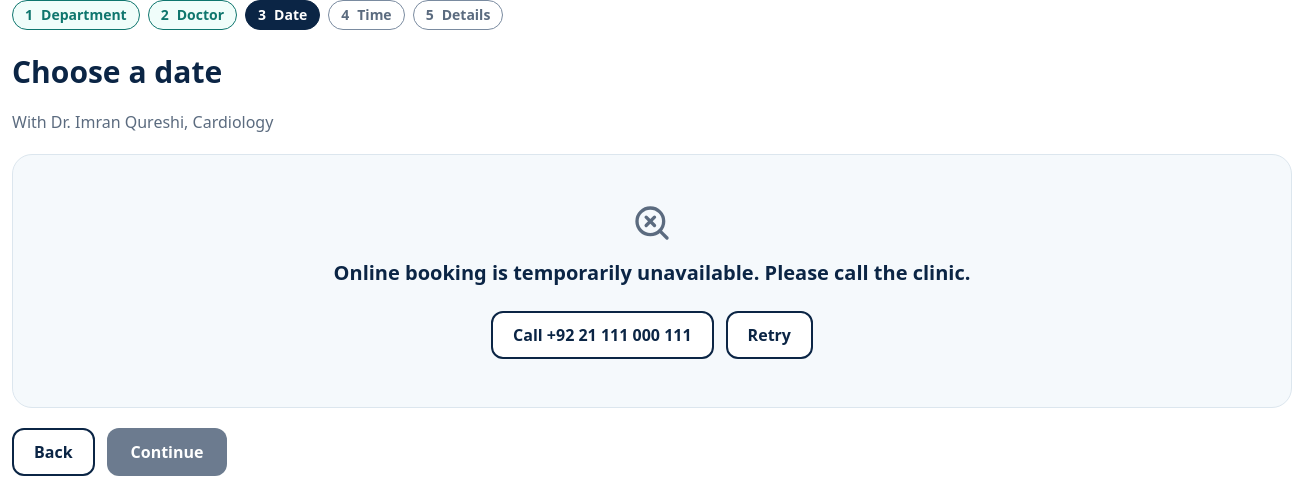
Scenario: BookingFlow: edge cases › says online booking is unavailable when the slots cannot be loaded, and Retry loads them again
Expected: the text "Online booking is temporarily unavailable. Please call the clinic." is shown, [334,259,970,287]
Expected: the link "Call +92 21 111 000 111" is shown, [491,311,714,359]
Click the button "Retry".
click(769, 335)  # box [726,311,813,359]
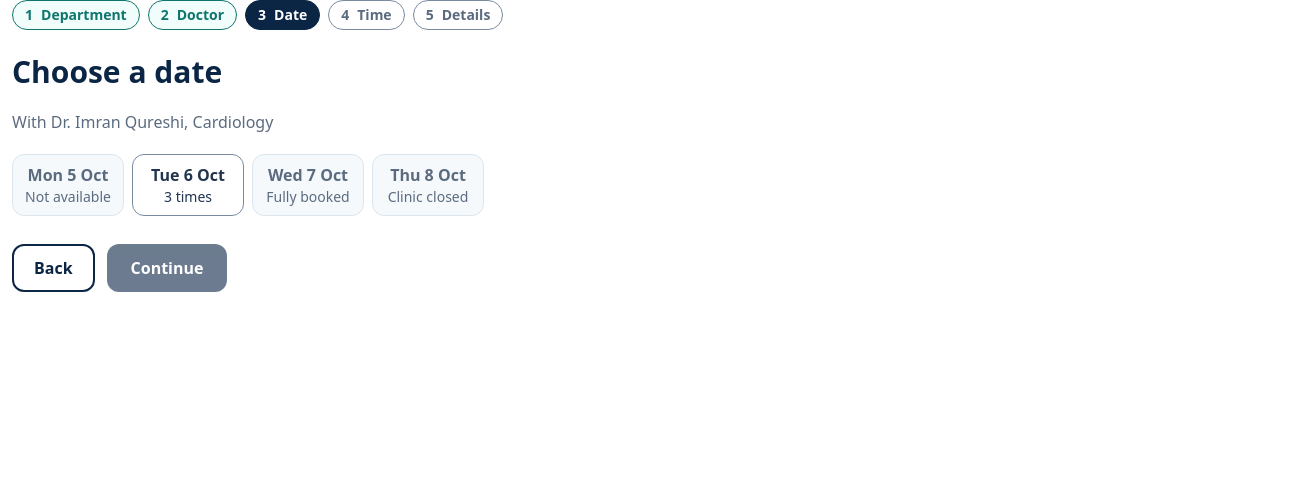
Expected: the radio button labelled "Tue 6 Oct 3 times" is shown, [132,154,244,216]
